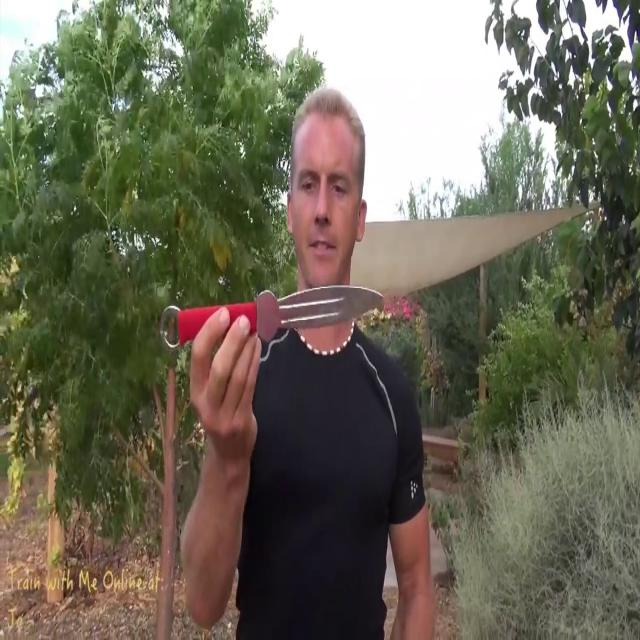knife: (159, 267, 391, 364)
